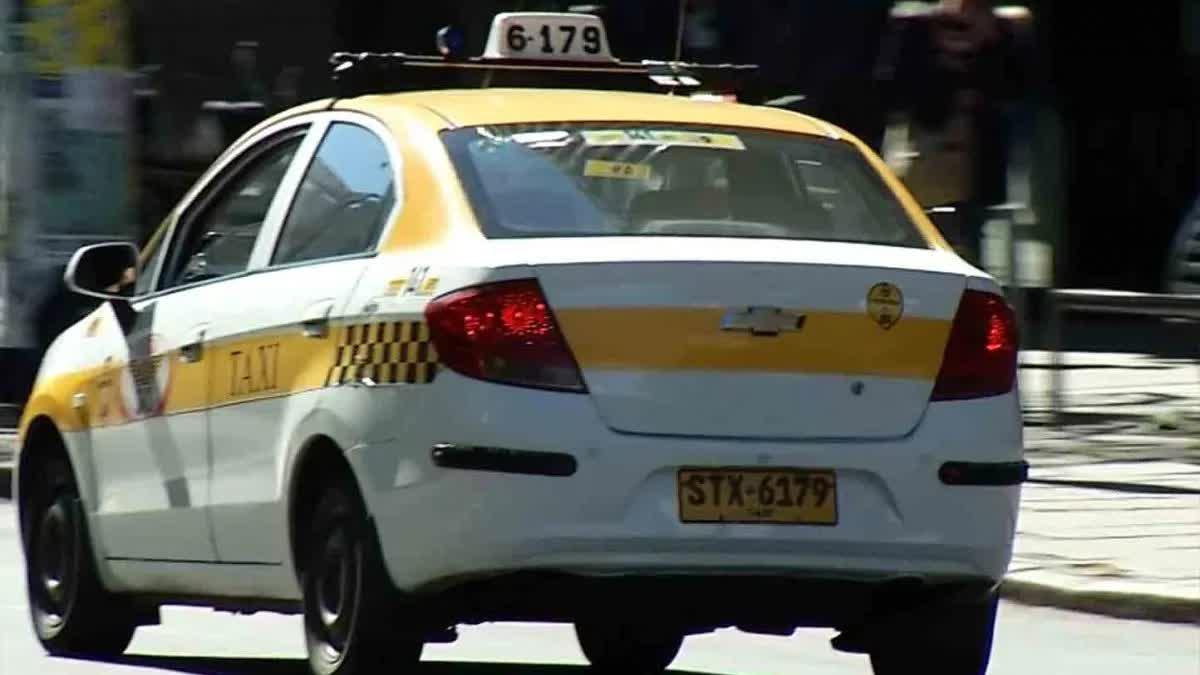taxi: (14, 16, 1025, 675)
